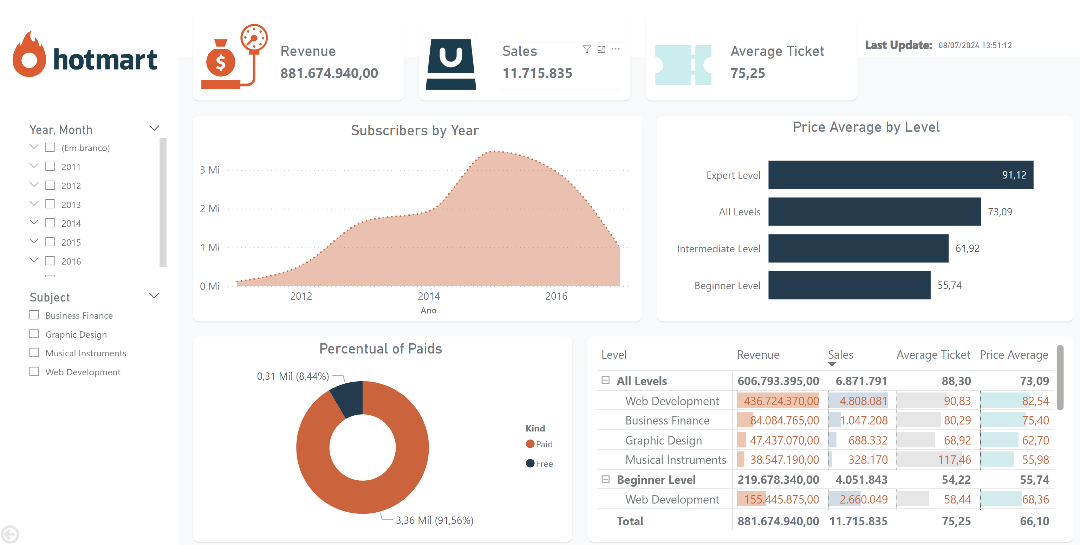

The page's visual inventory and layout, read from the dashboard file:
{"tool":"powerbi","page":{"name":"Sales","canvas":[1280,720],"ordinal":1},"visuals":[{"type":"clusteredBarChart","title":"Price Average by Level","fields":{"Category":["dim_level.level"],"Y":["Mesuares.Average"]},"box":[783.2,207.9,470.7,234.7],"z":0},{"type":"donutChart","title":"Percentual of Paids","fields":{"Category":["dim_paid.is_paid"],"Y":["CountNonNull(fact_courses.course_id)"]},"box":[236.6,466.9,433.3,231],"z":1000},{"type":"stackedAreaChart","title":"Subscribers by Year","fields":{"Category":["dim_time.Date.Variation.Hierarquia de datas.Ano","dim_time.Date.Variation.Hierarquia de datas.Mês"],"Y":["Sum(fact_courses.num_subscribers)"]},"box":[236.6,212.3,513,230.4],"z":2000},{"type":"multiRowCard","fields":{"Values":["Update.Update"]},"box":[1097.6,112.7,116.4,22.4],"z":3000},{"type":"textbox","title":"Last Update:","box":[1012.3,112.7,108.3,22.4],"z":4000},{"type":"pivotTable","fields":{"Rows":["dim_level.level","dim_subject.subject"],"Values":["C_Measuares.Revenue","C_Measuares.Sales","C_Measuares.AverageTicket","C_Measuares.Price Average"]},"box":[699.8,466.9,554.1,226.6],"z":5000},{"type":"slicer","title":"Ano","fields":{"Values":["dim_time.Year","dim_time.Month Name"]},"box":[30.5,207.9,177.4,190.5],"z":6000},{"type":"multiRowCard","title":"Revenue","fields":{"Values":["C_Measuares.Revenue"]},"box":[331.2,119.5,145.1,54.8],"z":7000},{"type":"multiRowCard","title":"Average Ticket","fields":{"Values":["C_Measuares.AverageTicket"]},"box":[855.4,119.5,145.1,54.8],"z":8000},{"type":"multiRowCard","title":"Sales","fields":{"Values":["C_Measuares.Sales"]},"box":[589.6,119.5,145.1,55.4],"z":9000},{"type":"slicer","title":"Ano","fields":{"Values":["dim_subject.subject"]},"box":[30.5,403.4,177.4,127],"z":10000},{"type":"actionButton","box":[6.2,678.6,33.6,29.9],"z":11000}]}

Visuals, with their boxes on the page's 1280x720 design canvas (x1, y1, x2, y2). These are canvas units, not pixel positions in the 1080x545 screenshot, which may show the page scaled, cropped or inside an application window:
"Price Average by Level" clusteredBarChart: 783,208,1254,443
"Percentual of Paids" donutChart: 237,467,670,698
"Subscribers by Year" stackedAreaChart: 237,212,750,443
multiRowCard - Update.Update: 1098,113,1214,135
"Last Update:" textbox: 1012,113,1121,135
pivotTable - dim_level.level x dim_subject.subject: 700,467,1254,694
"Ano" slicer: 30,208,208,398
"Revenue" multiRowCard: 331,120,476,174
"Average Ticket" multiRowCard: 855,120,1000,174
"Sales" multiRowCard: 590,120,735,175
"Ano" slicer: 30,403,208,530
actionButton: 6,679,40,708
